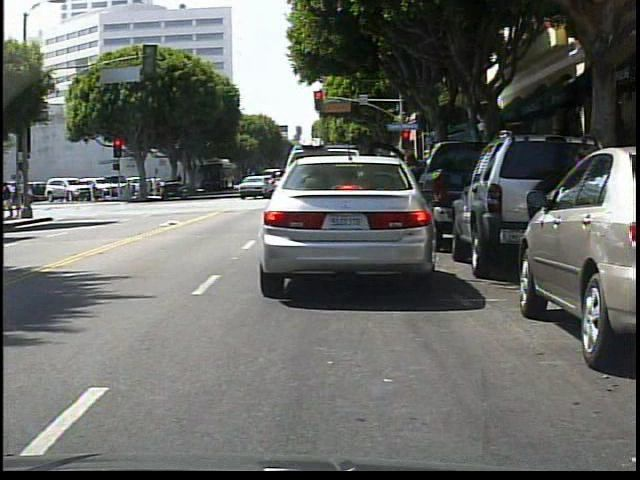person: (402, 148, 431, 235), (5, 183, 24, 219)
